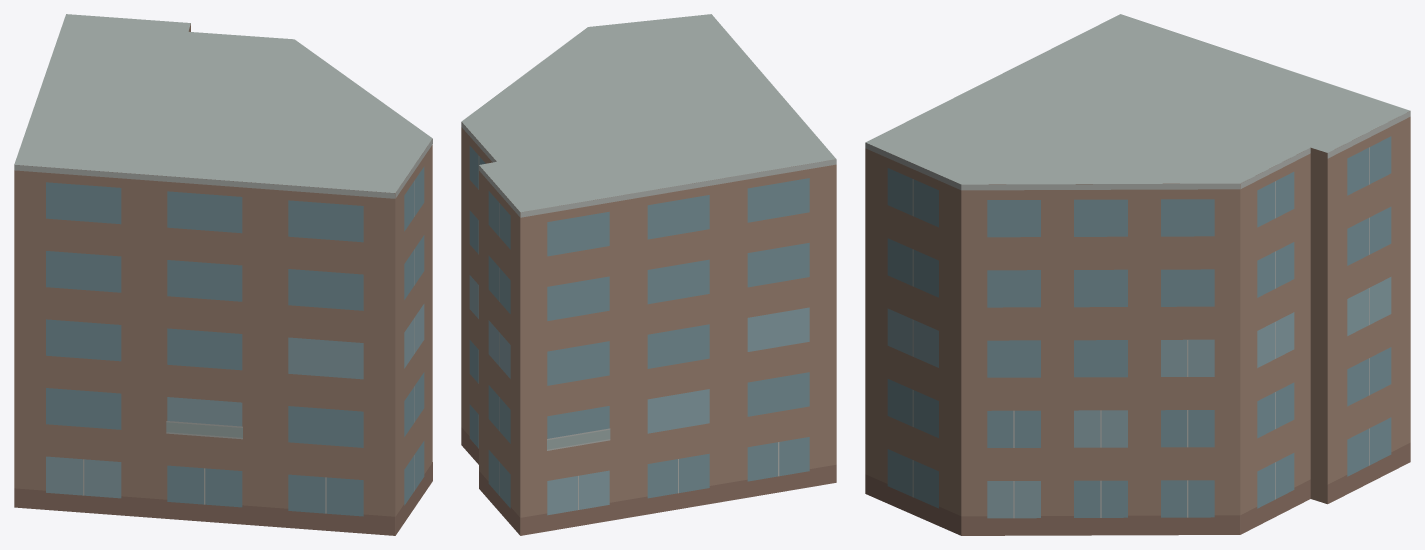
Rendered from survey-upis-32974197.glb.
The picture shows the model from 3 angles, left to right: view 1: azimuth 30°, elevation 25°; view 2: azimuth 150°, elevation 25°; view 3: azimuth 270°, elevation 25°; orthographic projection. The views are drawn at different scales.
Visible parts, largest first — view 1: survey-upis-32974197.tmp; view 2: survey-upis-32974197.tmp; view 3: survey-upis-32974197.tmp.
Boxes of the visible parts, x1,y1,x2,y2 form: survey-upis-32974197.tmp: (14,14,432,535); survey-upis-32974197.tmp: (461,14,836,535); survey-upis-32974197.tmp: (865,14,1410,535).
Size of the model in its own units: 15.31 by 14.7 by 20.68.
